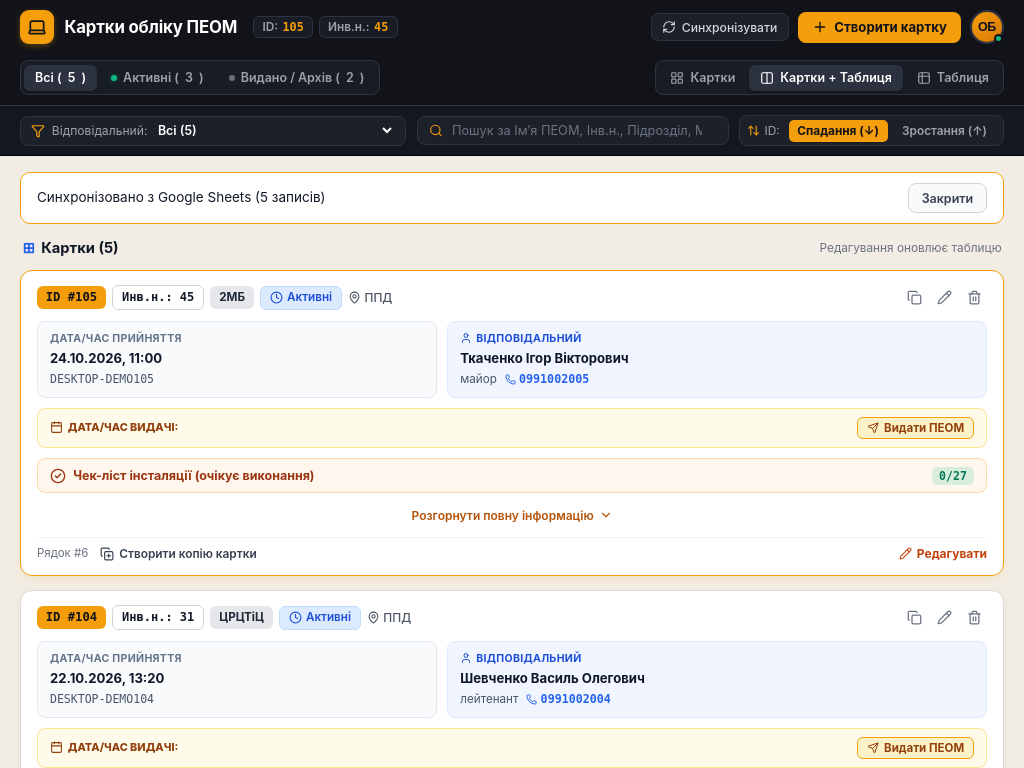
Test: Provisioning Accounting Workspace — Картки обліку ПЕОМ + Таблиця (AC-001, AC-004..AC-009) › displays error banner if deleting a card in Google Sheets fails
Click the button named "Видалити картку DESKTOP-DEMO105" at (974, 298), box top-left (961, 285), bottom-right (987, 310)
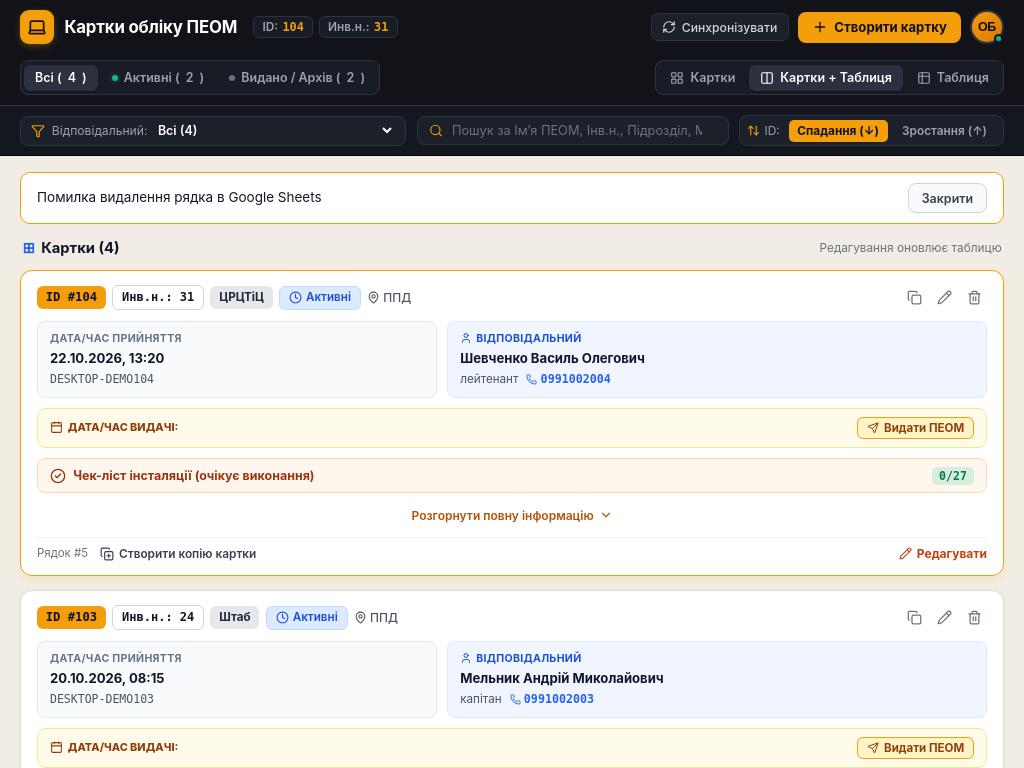
Expected: the text "Помилка видалення рядка в Google Sheets" is shown, top-left (37, 188), bottom-right (322, 208)
